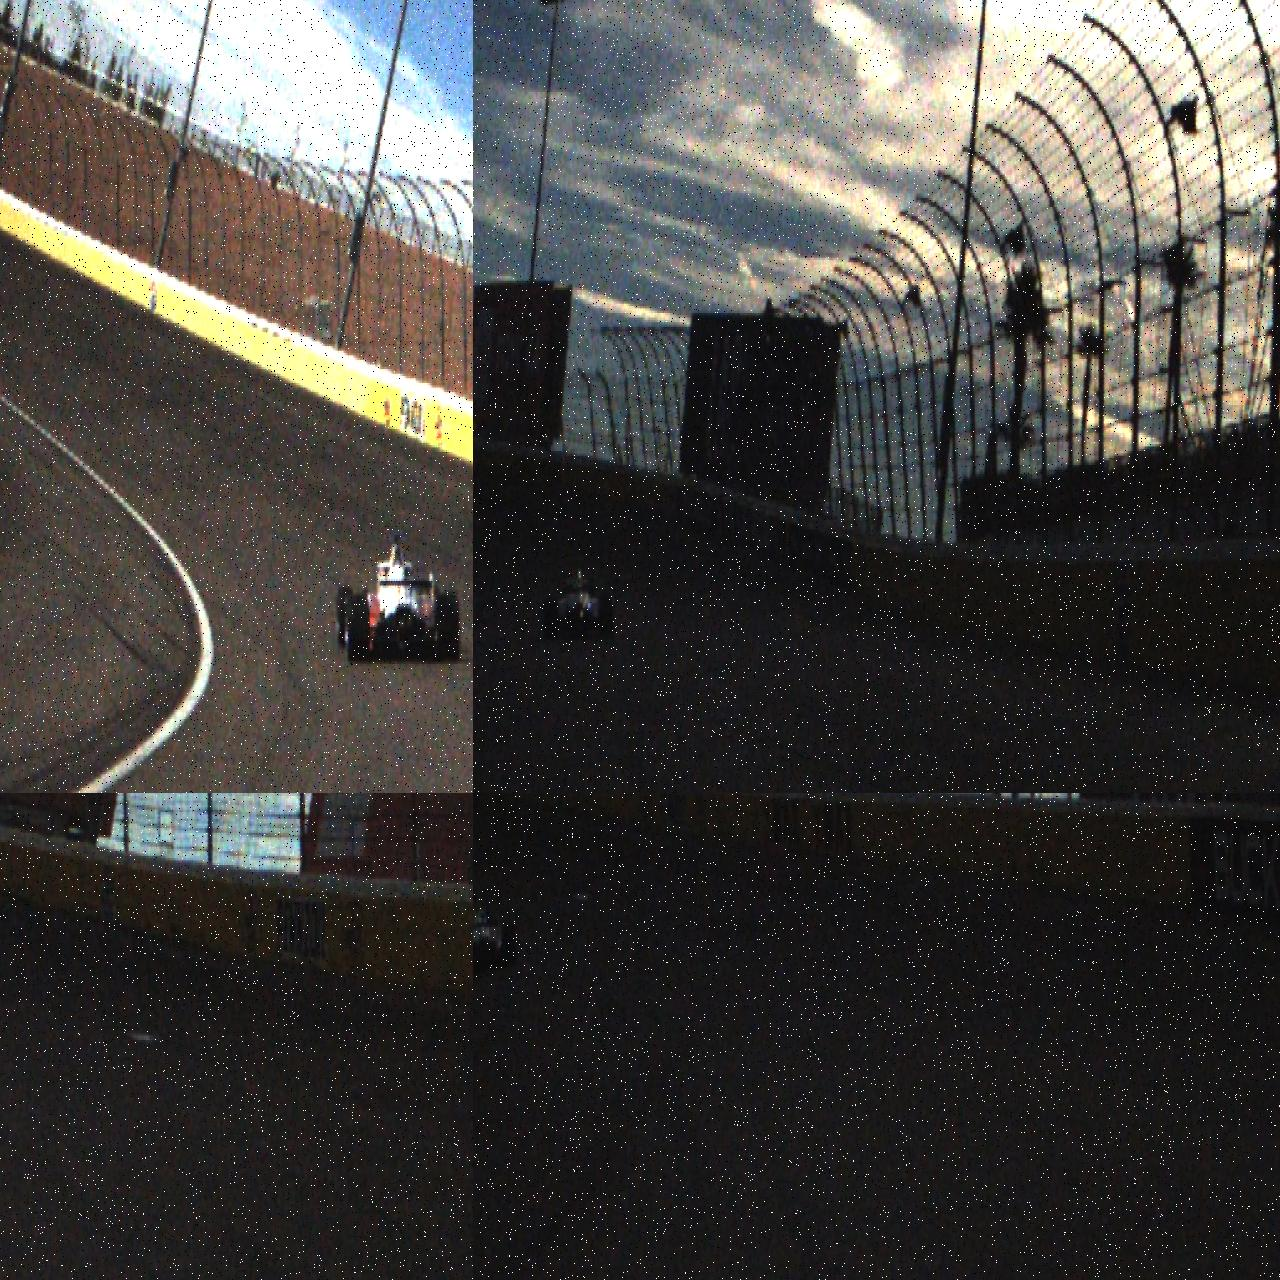AV: (336, 532, 460, 664), (543, 562, 613, 639), (473, 892, 515, 978)
Wheel: (346, 594, 369, 664), (437, 592, 459, 662), (337, 585, 353, 649), (544, 598, 558, 638), (598, 596, 612, 636)
